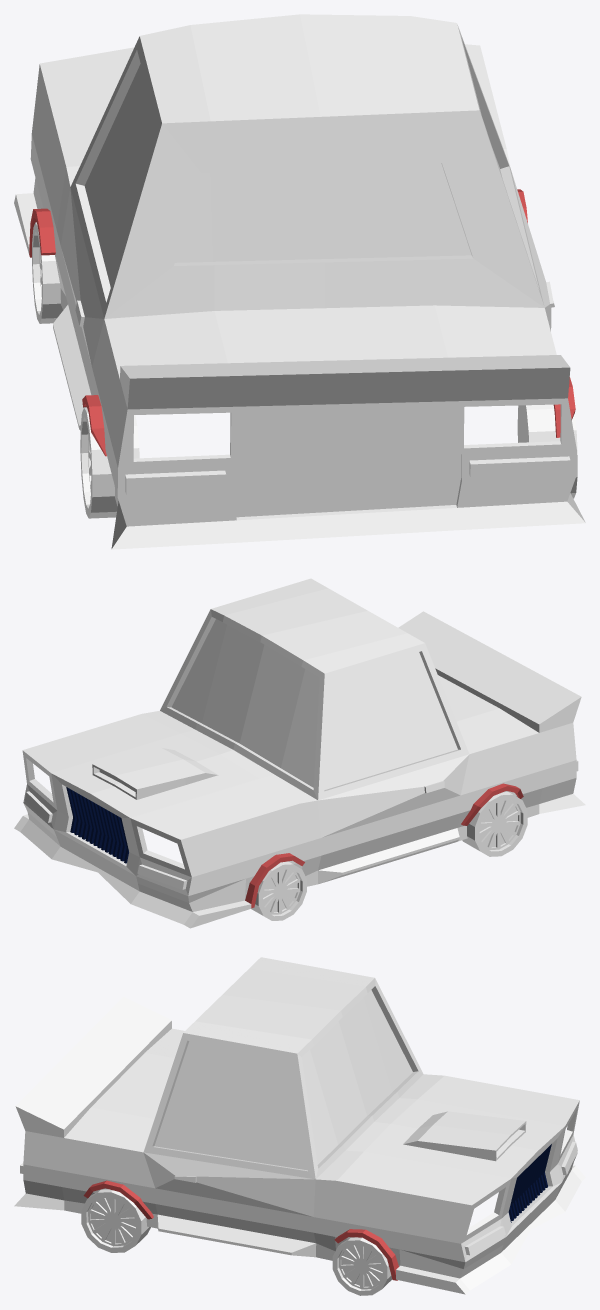
Rendered from car.glb.
The picture shows the model from 3 angles, top to bottom: view 1: azimuth 30°, elevation 25°; view 2: azimuth 150°, elevation 25°; view 3: azimuth 270°, elevation 25°; orthographic projection. The views are drawn at different scales.
Visible parts, largest first — view 1: body, wheel_1, wheel1_1, rear_fender, front_fender; view 2: body, wheel_1, lattice_1, wheel1_1, front_fender, rear_fender; view 3: body, wheel_1, wheel1_1, lattice_1, front_fender, rear_fender.
Part boxes in pixels (bbox=[...]): body: bbox=[14, 14, 585, 549]; wheel_1: bbox=[80, 404, 577, 518]; wheel1_1: bbox=[32, 222, 63, 323]; rear_fender: bbox=[82, 377, 575, 456]; front_fender: bbox=[29, 189, 527, 257]; body: bbox=[14, 578, 585, 928]; wheel_1: bbox=[462, 792, 527, 856]; lattice_1: bbox=[66, 787, 128, 863]; wheel1_1: bbox=[251, 861, 306, 920]; front_fender: bbox=[245, 853, 304, 908]; rear_fender: bbox=[461, 783, 523, 825]; body: bbox=[14, 957, 585, 1294]; wheel_1: bbox=[81, 1189, 150, 1252]; wheel1_1: bbox=[332, 1237, 392, 1295]; lattice_1: bbox=[508, 1144, 551, 1222]; front_fender: bbox=[334, 1229, 398, 1280]; rear_fender: bbox=[83, 1180, 153, 1219].
Bounding box in the file's own units: 216 × 111 × 264.
